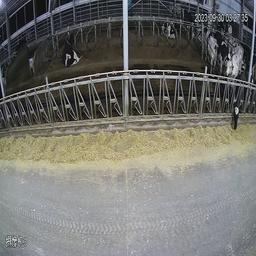cow: (231, 74, 252, 131), (62, 27, 83, 65), (203, 23, 218, 73), (160, 13, 181, 41), (226, 54, 240, 88)
